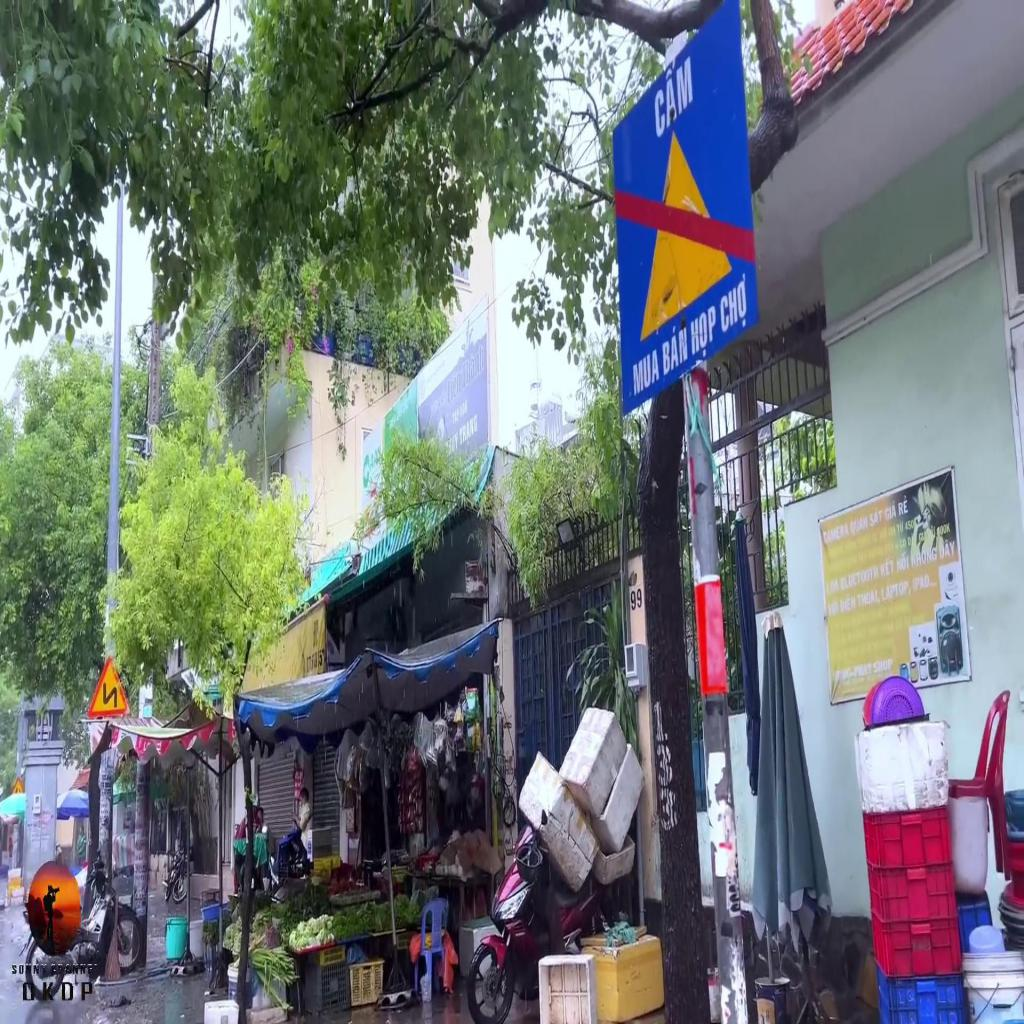cho_ngoat_nguy_hiem_lien_tiep: (88, 655, 130, 716)
